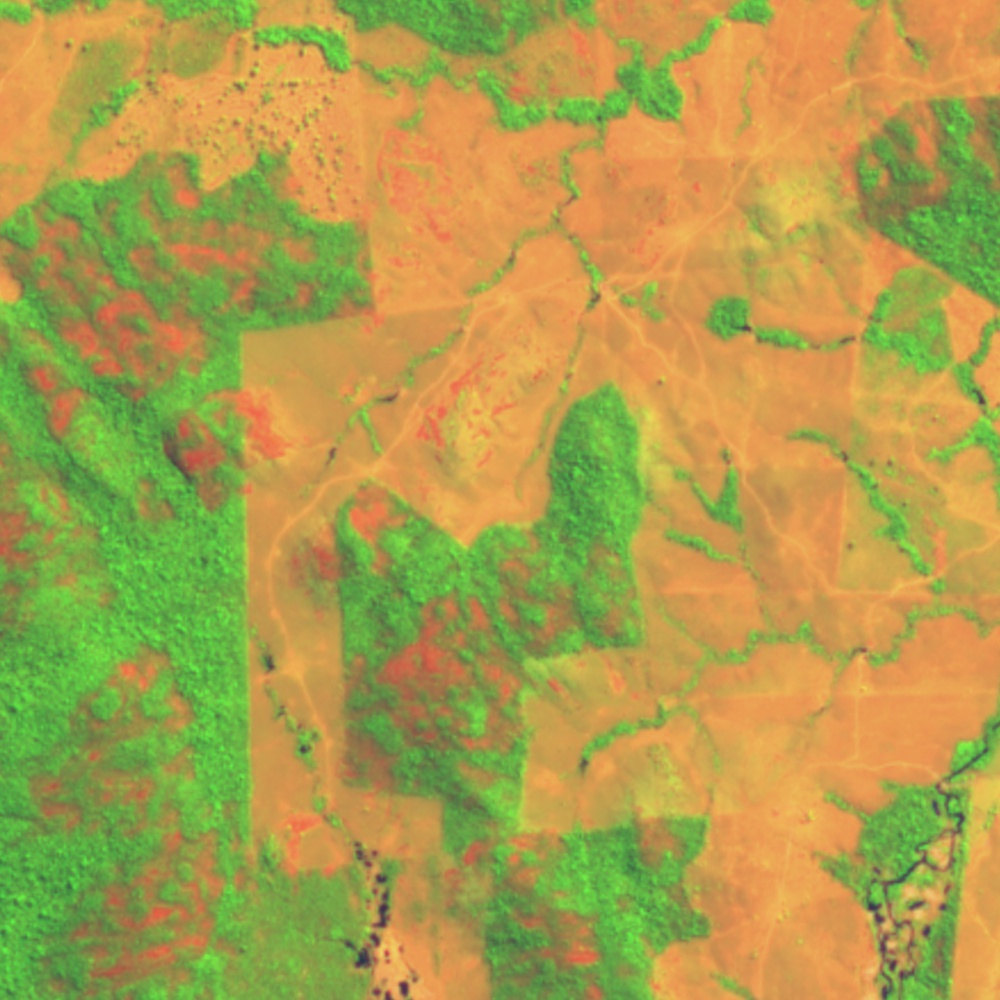illegal: (856, 780, 968, 1000), (337, 835, 419, 1000), (259, 646, 317, 763)
